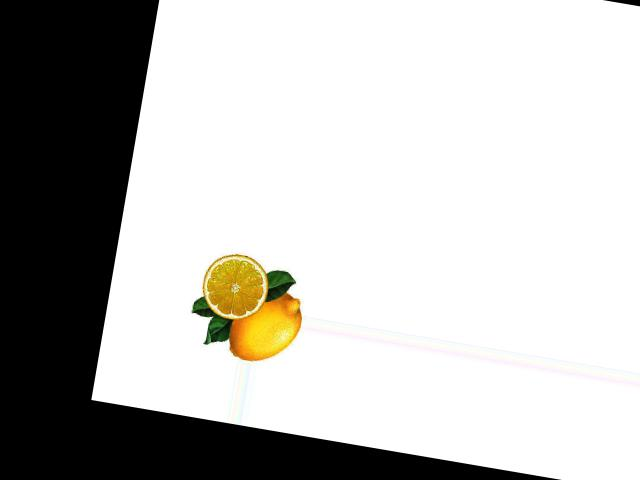lemon: (222, 282, 304, 368)
